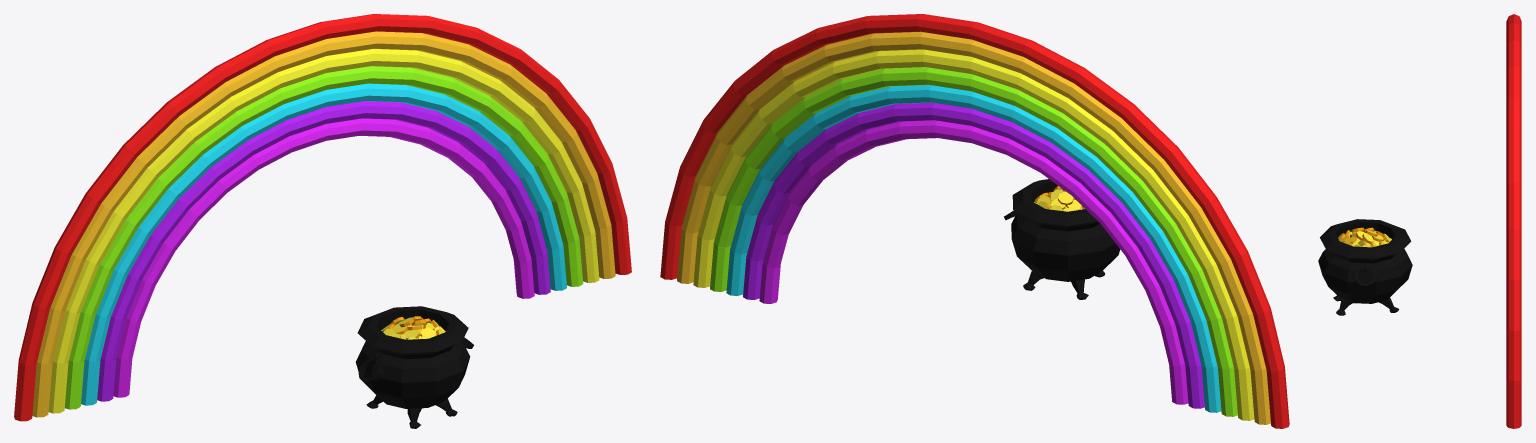
Rendered from Rainbow.glb.
3 renders of one model, left to right at view 1: azimuth 30°, elevation 25°; view 2: azimuth 150°, elevation 25°; view 3: azimuth 270°, elevation 25°, orthographic. The views are drawn at different scales.
Parts seen in each view (by area): view 1: Object_4.001, Object_5, Object_6, Object_7, Object_8, Object_9, Object_10, node_MeshObject485683200-PolyPaper23_0; view 2: Object_4.001, Object_5, Object_6, Object_7, Object_8, Object_9, Object_10, node_MeshObject485683200-PolyPaper23_0; view 3: node_MeshObject485683200-PolyPaper23_0, Object_4.001.
Part boxes in pixels (x1,y1,x2,y2): Object_4.001: [14, 14, 631, 421]; Object_5: [32, 31, 615, 417]; Object_6: [48, 49, 599, 413]; Object_7: [64, 66, 583, 409]; Object_8: [81, 83, 566, 405]; Object_9: [97, 101, 550, 401]; Object_10: [113, 118, 534, 397]; node_MeshObject485683200-PolyPaper23_0: [355, 306, 473, 428]; Object_4.001: [660, 14, 1289, 428]; Object_5: [677, 31, 1270, 424]; Object_6: [693, 49, 1254, 420]; Object_7: [710, 67, 1237, 416]; Object_8: [726, 85, 1221, 412]; Object_9: [743, 102, 1204, 408]; Object_10: [759, 120, 1188, 404]; node_MeshObject485683200-PolyPaper23_0: [1004, 179, 1120, 299]; node_MeshObject485683200-PolyPaper23_0: [1318, 219, 1412, 315]; Object_4.001: [1506, 14, 1521, 428].
Size of the model in its own units: 3.89 by 1.95 by 1.35.
